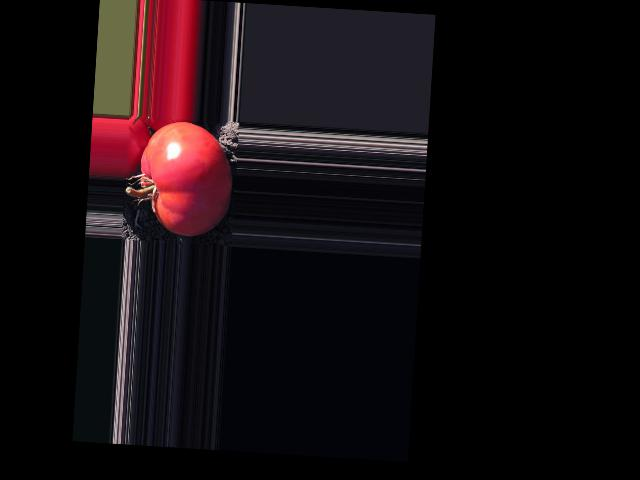tomato: (137, 119, 235, 238)
